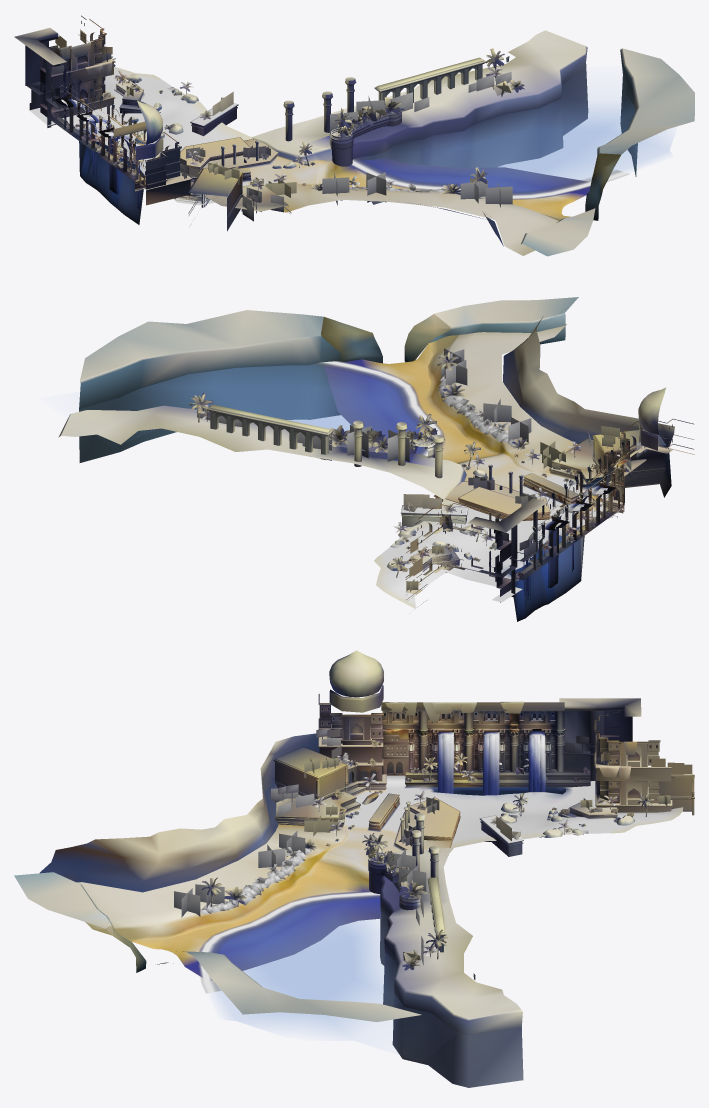
File: 07Beach.gltf
3 views of the same model, one above another, from view 1: azimuth 30°, elevation 25°; view 2: azimuth 150°, elevation 25°; view 3: azimuth 270°, elevation 25° (orthographic). The views are drawn at different scales.
Visible parts, largest first — view 1: stg010_o08_Mesh_0009, stg010_w08_Mesh_0000, stg010_o08_Mesh_0002, stg010_o08_Mesh_0000, stg010_o35_Mesh_0003, stg010_o08_Mesh_0001, stg010_p08_Mesh_0010, stg010_o09_Mesh_0001, stg010_o08_Mesh_0011, stg010_o17_Mesh_0012, stg010_o08_Mesh_0007, stg010_wave_Mesh_0000 (+18 smaller); view 2: stg010_o08_Mesh_0009, stg010_o35_Mesh_0003, stg010_o08_Mesh_0002, stg010_w08_Mesh_0000, stg010_o08_Mesh_0000, stg010_o08_Mesh_0001, stg010_o09_Mesh_0001, stg010_o17_Mesh_0023, stg010_p08_Mesh_0010, stg010_o08_Mesh_0011, stg010_o35_Mesh_0001, stg010_o17_Mesh_0006 (+17 smaller); view 3: stg010_o08_Mesh_0009, stg010_w08_Mesh_0000, stg010_o17_Mesh_0023, stg010_o08_Mesh_0002, stg010_o08_Mesh_0000, stg010_o08_Mesh_0001, stg010_o35_Mesh_0003, stg010_o09_Mesh_0001, stg010_o08_Mesh_0011, stg010_p08_Mesh_0010, stg010_o17_Mesh_0012, stg010_o08_Mesh_0006 (+24 smaller).
Boxes of the visible parts, x1=… form: stg010_o08_Mesh_0009: x1=88, y1=30, x2=694, y2=256; stg010_w08_Mesh_0000: x1=361, y1=101, x2=672, y2=193; stg010_o08_Mesh_0002: x1=353, y1=63, x2=637, y2=204; stg010_o08_Mesh_0000: x1=41, y1=59, x2=558, y2=255; stg010_o35_Mesh_0003: x1=79, y1=46, x2=639, y2=244; stg010_o08_Mesh_0001: x1=14, y1=15, x2=486, y2=230; stg010_p08_Mesh_0010: x1=51, y1=29, x2=512, y2=221; stg010_o09_Mesh_0001: x1=29, y1=67, x2=250, y2=205; stg010_o08_Mesh_0011: x1=331, y1=161, x2=586, y2=218; stg010_o17_Mesh_0012: x1=25, y1=41, x2=241, y2=217; stg010_o08_Mesh_0007: x1=29, y1=30, x2=477, y2=227; stg010_wave_Mesh_0000: x1=351, y1=158, x2=628, y2=199; stg010_o08_Mesh_0009: x1=61, y1=297, x2=578, y2=570; stg010_o35_Mesh_0003: x1=58, y1=313, x2=584, y2=621; stg010_o08_Mesh_0002: x1=79, y1=359, x2=397, y2=462; stg010_w08_Mesh_0000: x1=135, y1=364, x2=424, y2=453; stg010_o08_Mesh_0000: x1=331, y1=324, x2=672, y2=594; stg010_o08_Mesh_0001: x1=207, y1=404, x2=694, y2=604; stg010_o09_Mesh_0001: x1=374, y1=475, x2=619, y2=608; stg010_o17_Mesh_0023: x1=503, y1=316, x2=674, y2=497; stg010_p08_Mesh_0010: x1=197, y1=348, x2=648, y2=591; stg010_o08_Mesh_0011: x1=361, y1=343, x2=497, y2=463; stg010_o35_Mesh_0001: x1=321, y1=314, x2=627, y2=520; stg010_o17_Mesh_0006: x1=209, y1=411, x2=665, y2=599; stg010_o08_Mesh_0009: x1=14, y1=787, x2=632, y2=1021; stg010_w08_Mesh_0000: x1=214, y1=899, x2=400, y2=1037; stg010_o17_Mesh_0023: x1=40, y1=733, x2=319, y2=892; stg010_o08_Mesh_0002: x1=185, y1=901, x2=523, y2=1087; stg010_o08_Mesh_0000: x1=77, y1=735, x2=671, y2=929; stg010_o08_Mesh_0001: x1=273, y1=694, x2=694, y2=952; stg010_o35_Mesh_0003: x1=80, y1=787, x2=634, y2=1035; stg010_o09_Mesh_0001: x1=344, y1=775, x2=681, y2=847; stg010_o08_Mesh_0011: x1=132, y1=863, x2=380, y2=966; stg010_p08_Mesh_0010: x1=174, y1=728, x2=692, y2=965; stg010_o17_Mesh_0012: x1=275, y1=710, x2=691, y2=812; stg010_o08_Mesh_0006: x1=275, y1=687, x2=640, y2=952.
Size of the model in its own units: 615 by 175 by 598.
